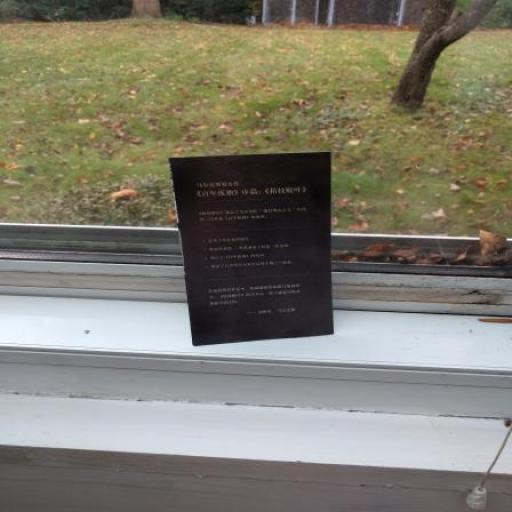paper: (102, 133, 389, 396)
